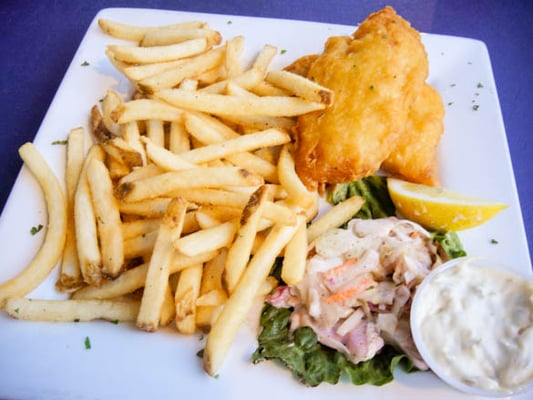soup: (286, 9, 446, 193)
